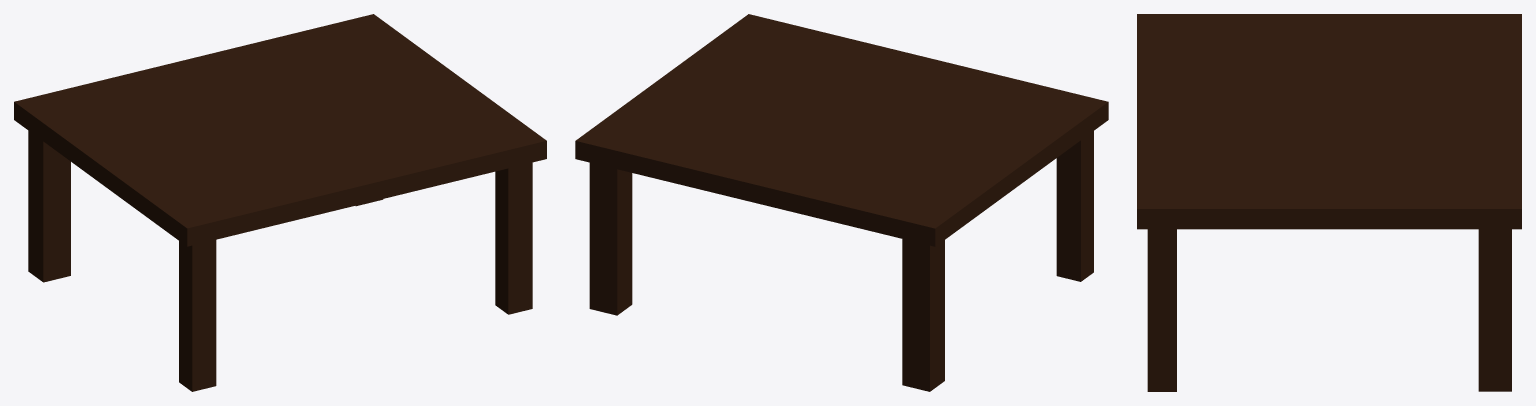
Rendered from table.fbx.
3 views of the same model, side by side, from view 1: azimuth 30°, elevation 25°; view 2: azimuth 150°, elevation 25°; view 3: azimuth 270°, elevation 25° (orthographic). The views are drawn at different scales.
Visible parts, largest first — view 1: Cube; view 2: Cube; view 3: Cube.
Boxes of the visible parts, x1=… form: Cube: x1=14, y1=14, x2=546, y2=391; Cube: x1=575, y1=14, x2=1108, y2=391; Cube: x1=1137, y1=14, x2=1521, y2=391.
Bounding box in the file's own units: 505 × 227 × 421.
